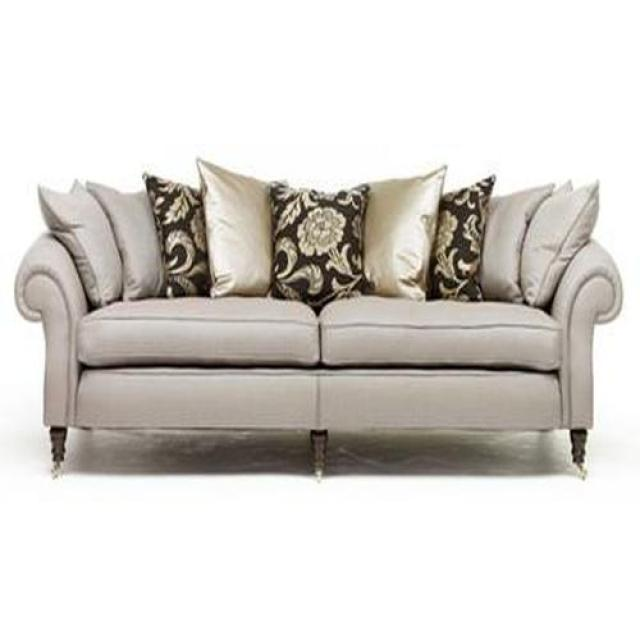sofa: (13, 160, 625, 486)
